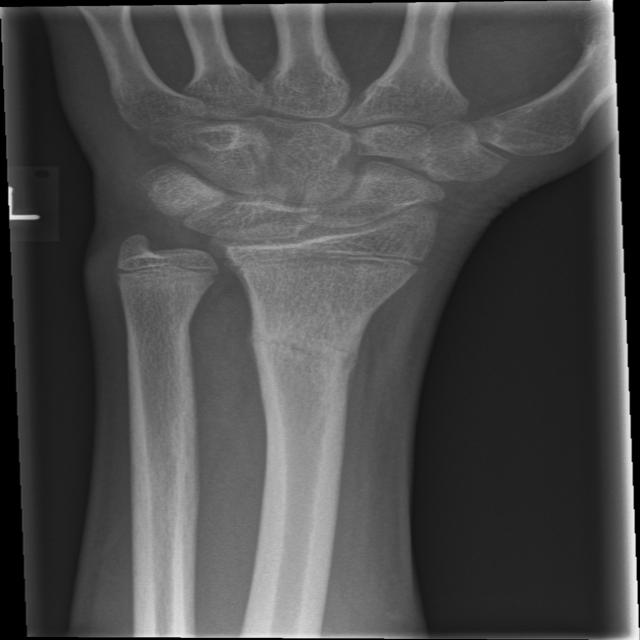radius fracture: (232, 289, 406, 448)
ulna fracture: (88, 233, 222, 375)
